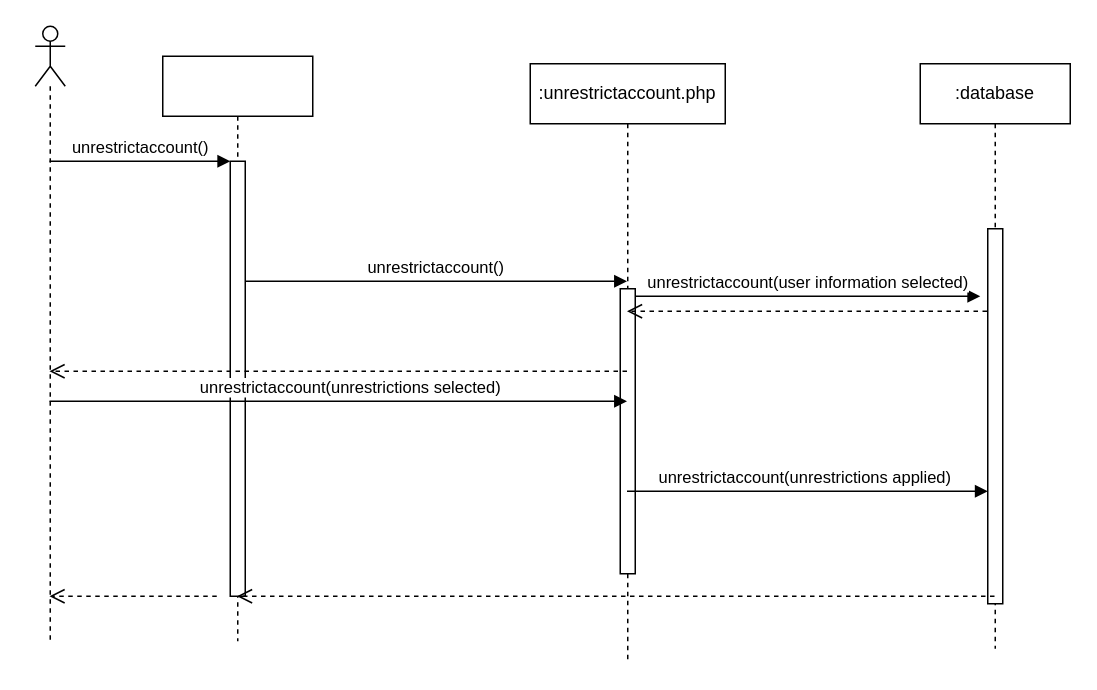
Image size: 1097x690. Some labels were removed from this diagram. The box of each missing label's shape, as (x1, y1, x2, y2) in pixels:
:user.php: (161, 55, 313, 641)
admin: (34, 25, 65, 641)
